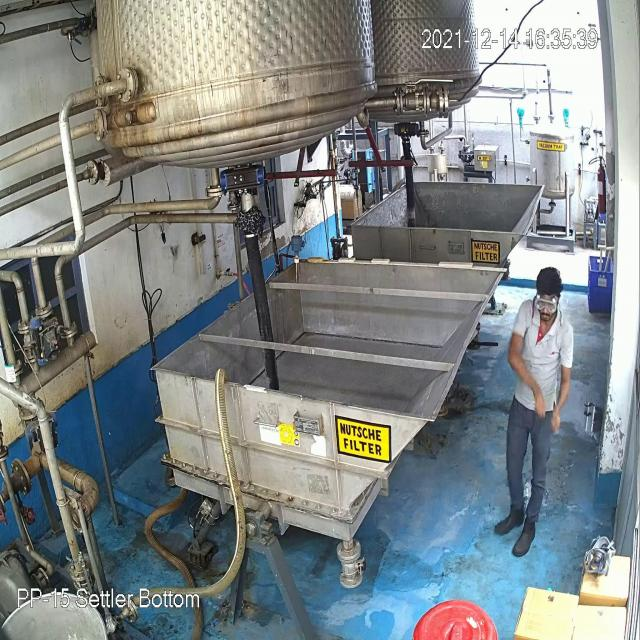No_Gloves: (24, 71, 559, 402)
